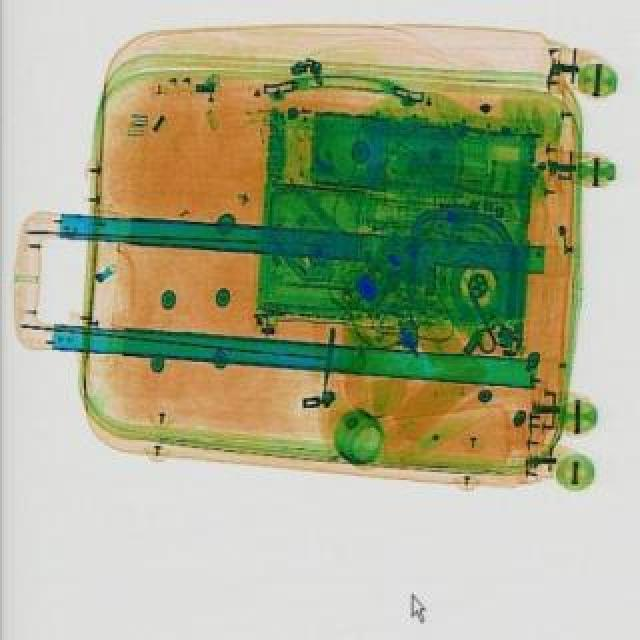pliers: (448, 270, 516, 354)
